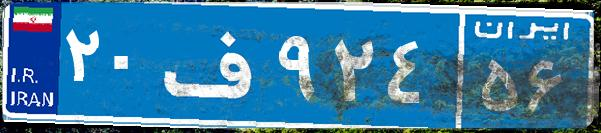0: (110, 28, 158, 105)
2: (330, 28, 385, 110), (57, 26, 110, 107)
4: (385, 28, 445, 110)
5: (475, 38, 525, 113)
6: (525, 38, 570, 115)
9: (273, 28, 330, 110)
ف: (158, 15, 273, 115)
